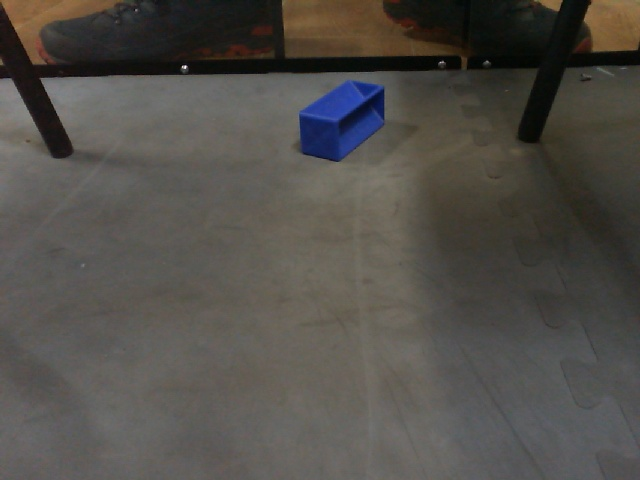BlueSample: (296, 77, 389, 165)
